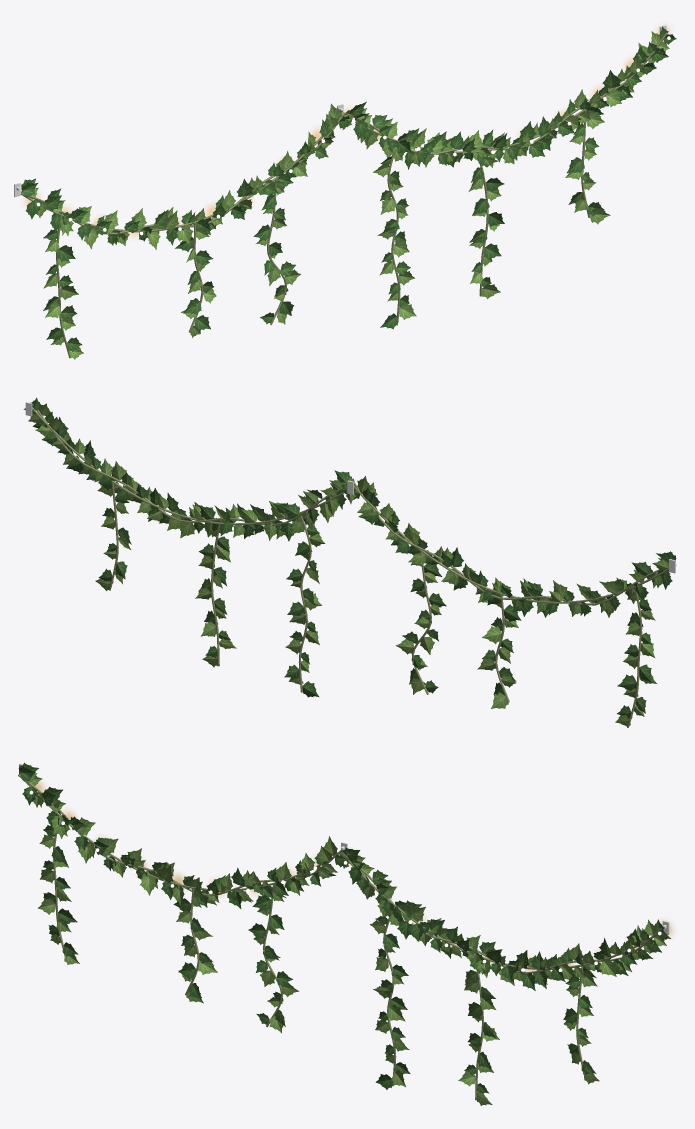
Rendered from obj-ivy-garland-lights.glb.
3 views of the same model, one above another, from view 1: azimuth 30°, elevation 25°; view 2: azimuth 150°, elevation 25°; view 3: azimuth 330°, elevation 25° (orthographic).
Parts seen in each view (by area): view 1: obj-ivy-garland-lights; view 2: obj-ivy-garland-lights; view 3: obj-ivy-garland-lights.
Boxes of the visible parts, bbox=[...] form: obj-ivy-garland-lights: bbox=[14, 25, 676, 359]; obj-ivy-garland-lights: bbox=[23, 397, 676, 727]; obj-ivy-garland-lights: bbox=[18, 762, 673, 1105].
Bounding box in the file's own units: 1.54 × 0.5533 × 0.0443.
6 materials, 3 textured.
